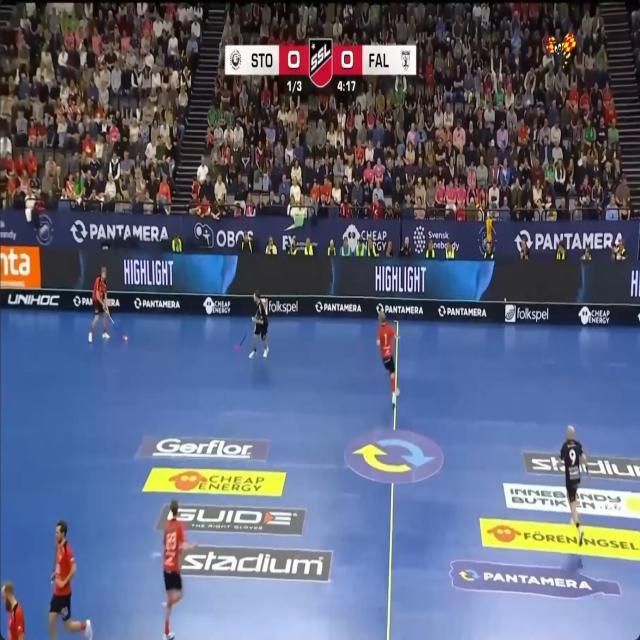Balls: (123, 334, 128, 341)
player: (48, 521, 92, 639), (162, 499, 195, 639), (560, 425, 588, 545), (376, 312, 398, 404), (89, 268, 109, 341), (1, 580, 25, 639), (249, 290, 268, 358)
